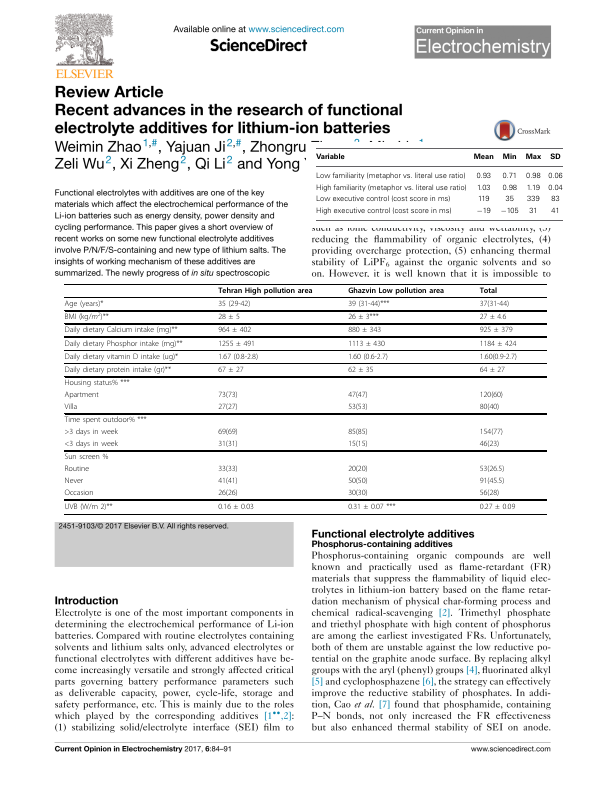borderless: (63, 282, 547, 514), (315, 147, 563, 221)
cell: (314, 184, 467, 193), (314, 172, 466, 181), (314, 207, 452, 216), (314, 195, 451, 204), (64, 339, 184, 348), (64, 365, 172, 375), (64, 326, 179, 335), (64, 352, 179, 361), (347, 286, 445, 295), (217, 286, 313, 295), (64, 416, 147, 425), (64, 378, 130, 388), (64, 439, 119, 449), (63, 311, 110, 322), (64, 428, 119, 437), (64, 502, 113, 511), (347, 502, 396, 511), (347, 299, 390, 309), (63, 299, 104, 309), (64, 453, 109, 462), (217, 352, 259, 361), (347, 352, 389, 361), (64, 390, 100, 400), (217, 339, 256, 348), (347, 339, 386, 348), (479, 352, 518, 361), (479, 339, 517, 348), (217, 502, 255, 511), (217, 299, 251, 309), (479, 502, 516, 511), (347, 312, 380, 322), (217, 326, 252, 335), (347, 326, 382, 335), (479, 326, 514, 335), (479, 299, 510, 309), (479, 312, 507, 322), (217, 365, 244, 375), (347, 365, 374, 375), (479, 365, 506, 375), (64, 489, 94, 498), (479, 390, 504, 400), (314, 153, 345, 161), (217, 312, 241, 322), (64, 465, 90, 474), (479, 465, 505, 474), (479, 477, 505, 486), (479, 428, 504, 437), (217, 390, 239, 400), (217, 402, 239, 412), (217, 439, 239, 449), (347, 390, 368, 400), (347, 402, 368, 412), (479, 402, 500, 412), (347, 439, 368, 449), (479, 439, 500, 449), (217, 428, 239, 437), (217, 465, 239, 474), (217, 477, 239, 486), (217, 489, 239, 498), (347, 428, 368, 437), (347, 465, 368, 474), (347, 477, 368, 486), (347, 489, 368, 498), (479, 489, 500, 498), (499, 207, 519, 216), (64, 477, 84, 486), (472, 153, 494, 161), (479, 286, 498, 295), (524, 172, 541, 181), (475, 172, 491, 181), (501, 172, 517, 181), (547, 172, 563, 181), (475, 184, 491, 193), (501, 184, 517, 193), (547, 184, 563, 193), (475, 207, 491, 216), (64, 402, 78, 412), (524, 153, 541, 161), (525, 184, 540, 193), (525, 195, 540, 204), (501, 153, 517, 161), (476, 195, 490, 204), (549, 153, 561, 161), (504, 195, 514, 204), (550, 195, 560, 204), (528, 207, 538, 216), (550, 207, 560, 216)
